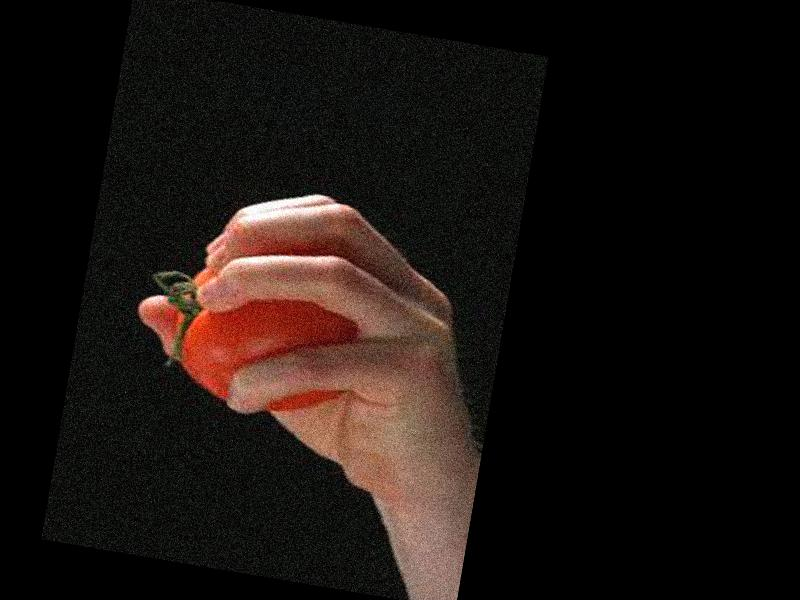Tomato: (172, 263, 369, 424)
